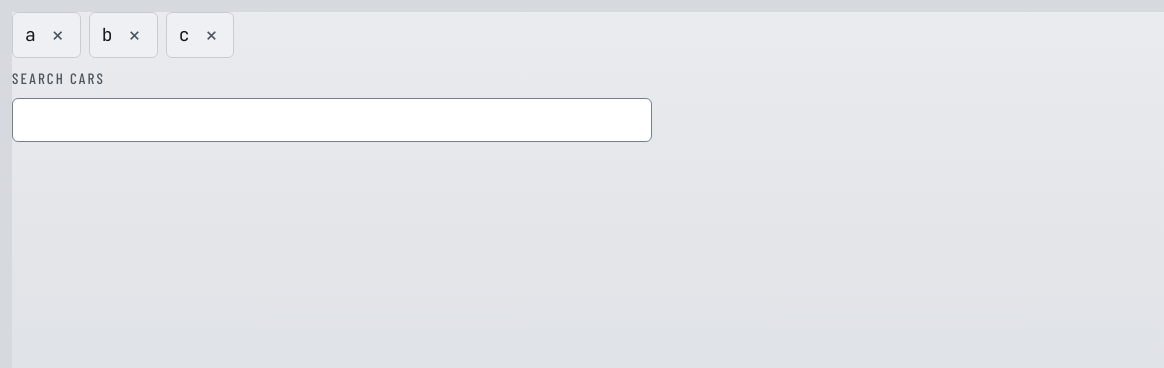
Scenario: CarPicker behaviour › moves focus off the disabled input when the 4th car is added
Step 1. Type "963" into the dropdown → (332, 120), box [12,98,652,142]
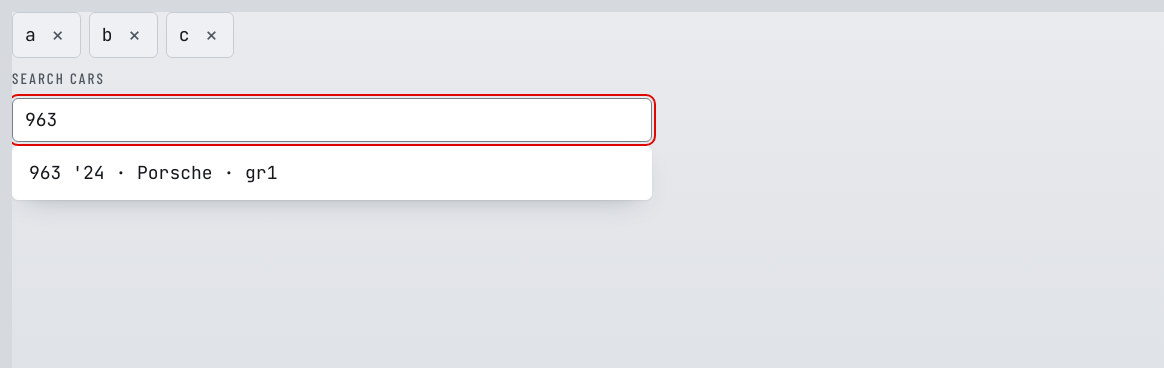
Check: the option "963 '24 · Porsche · gr1" is shown, box [29,161,277,184]
Step 2. Press Arrowdown Enter
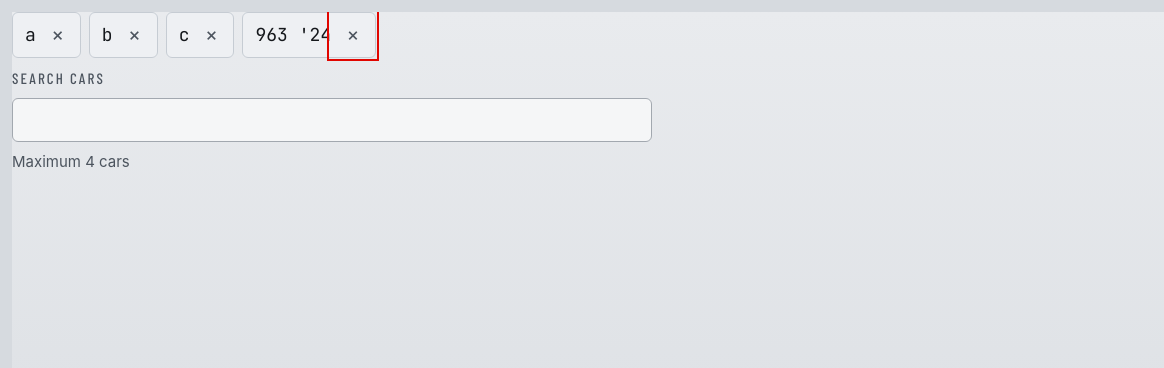
Check: the dropdown is disabled, box [12,98,652,142]
